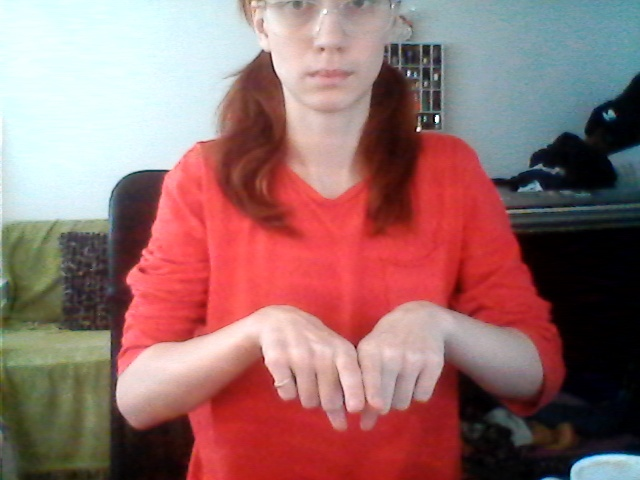sestra: (245, 294, 451, 437)
